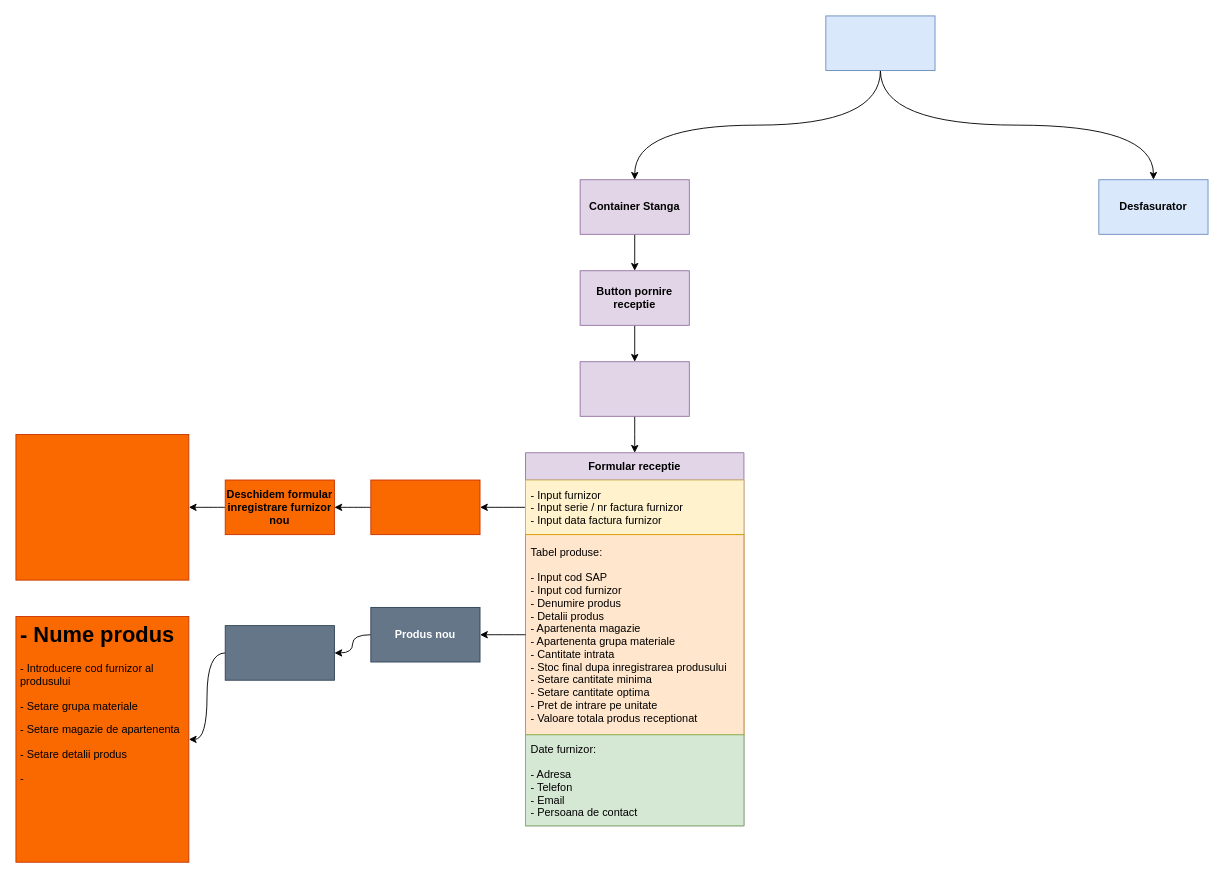
The diagram is 1224 pixels wide and 878 high, and some of its shapes have lost their labels. Here are the shapes that lost their labels. From the top down, the centre of each, then its label:
the point at 880,43: Receptie Marfa
the point at 634,388: Deschide formular procesare factura
the point at 102,507: - Nume furnizor - Adresa furnizor - Telefon - Email - Persoana de contact
the point at 425,507: Furnizor nou
the point at 279,652: Deschidem formular de inregistrare produs nou
